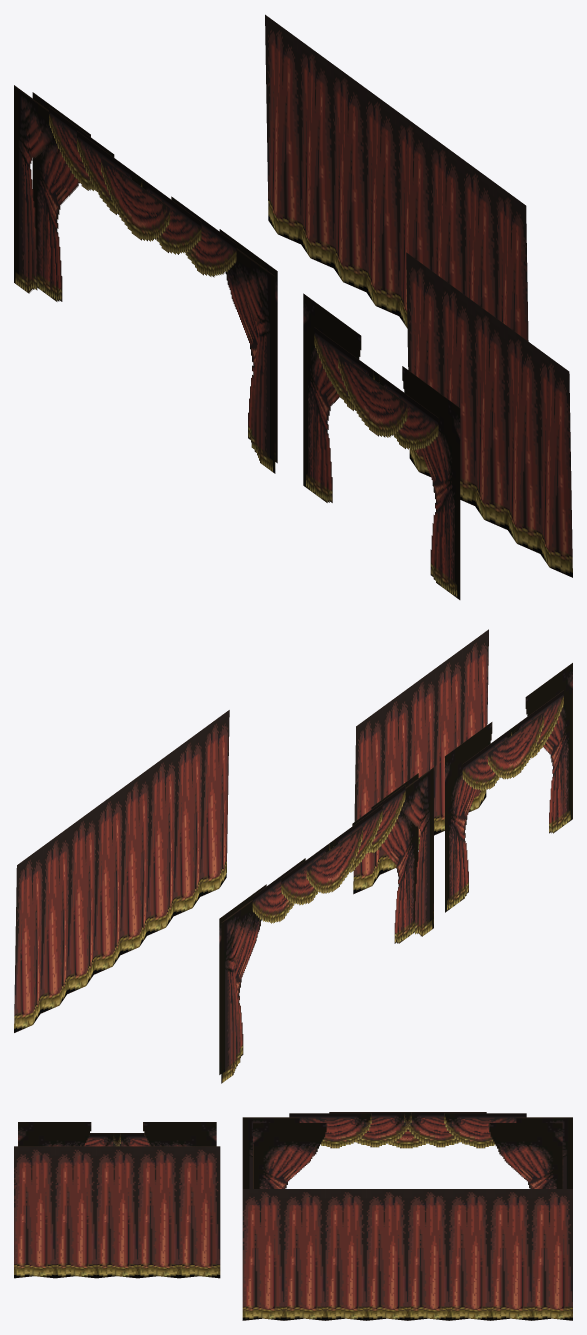
File: ObjMD_Pub_Curtain_A.FBX
The picture shows the model from 3 angles, top to bottom: view 1: azimuth 30°, elevation 25°; view 2: azimuth 150°, elevation 25°; view 3: azimuth 270°, elevation 25°; orthographic projection. The views are drawn at different scales.
Parts seen in each view (by area): view 1: ObjMD_Pub_Curtain_A, ObjMD_Pub_Curtain_Snow_S; view 2: ObjMD_Pub_Curtain_A, ObjMD_Pub_Curtain_Snow_S; view 3: ObjMD_Pub_Curtain_A, ObjMD_Pub_Curtain_Snow_S.
Boxes of the visible parts, <box> form: ObjMD_Pub_Curtain_A: <box>14,14,528,473</box>; ObjMD_Pub_Curtain_Snow_S: <box>303,252,572,599</box>; ObjMD_Pub_Curtain_A: <box>14,710,433,1083</box>; ObjMD_Pub_Curtain_Snow_S: <box>353,629,572,912</box>; ObjMD_Pub_Curtain_A: <box>242,1112,572,1320</box>; ObjMD_Pub_Curtain_Snow_S: <box>14,1122,220,1278</box>.
Size of the model in its own units: 931 by 700 by 2708.
